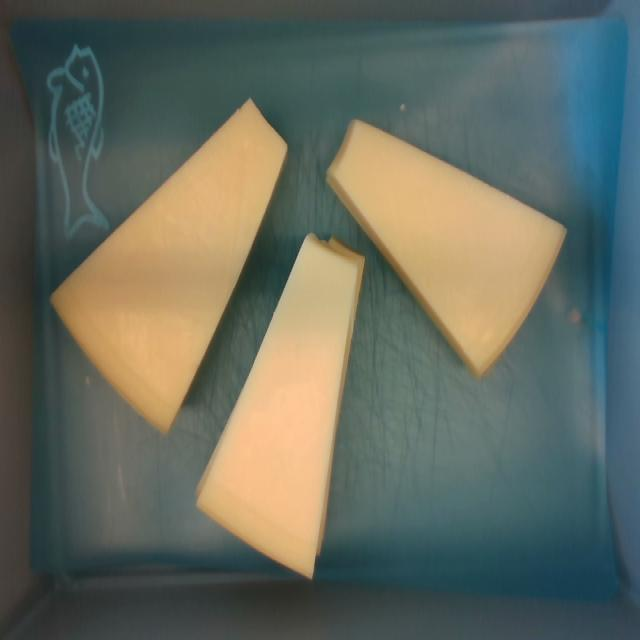cheese: (52, 100, 286, 431), (327, 120, 565, 376), (197, 232, 360, 576)
